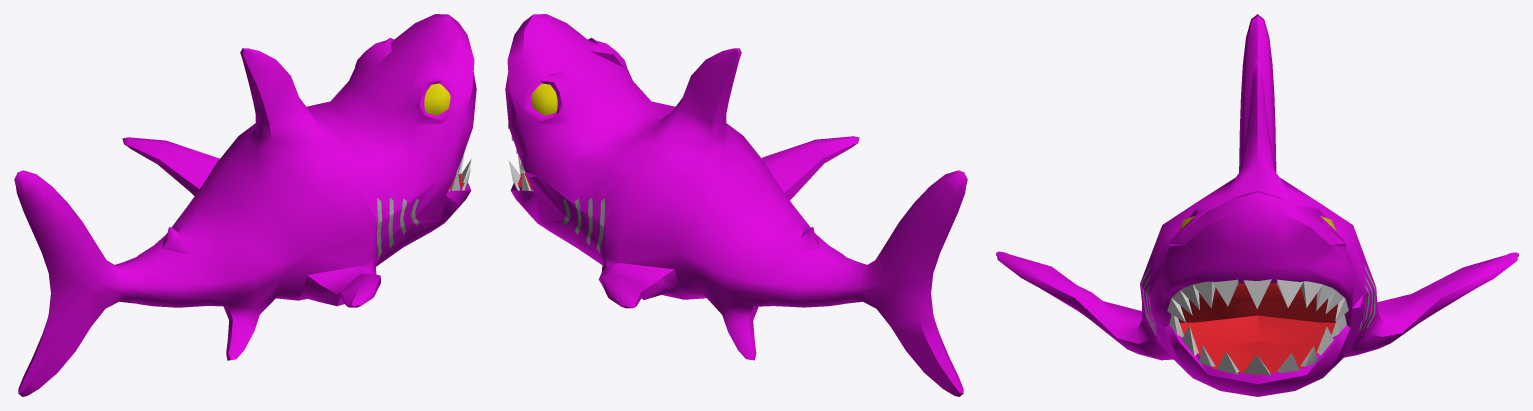
Rendered from Shark.glb.
The picture shows the model from 3 angles, left to right: view 1: azimuth 30°, elevation 25°; view 2: azimuth 150°, elevation 25°; view 3: azimuth 270°, elevation 25°; orthographic projection. The views are drawn at different scales.
Visible parts, largest first — view 1: shark; view 2: shark; view 3: shark.
Part boxes in pixels (bbox=[...]): shark: bbox=[14, 14, 476, 396]; shark: bbox=[505, 14, 967, 396]; shark: bbox=[996, 14, 1518, 396].
Bounding box in the file's own units: 2.12 × 1.32 × 1.88.
